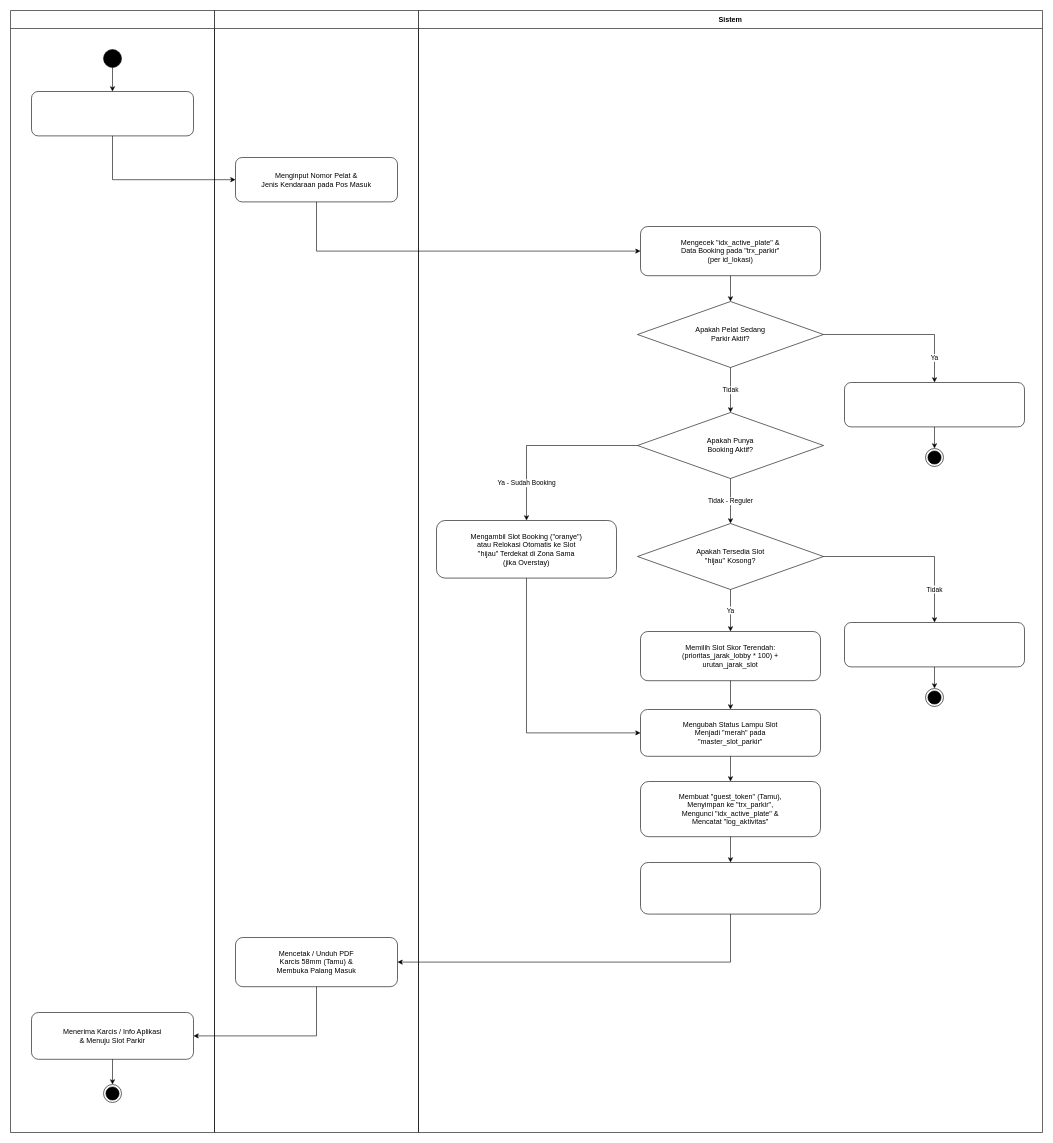
Some shapes in this 1053 by 1143 pixel diagram are drawn without their labels. Here are the shapes that lost their labels. From the top down, the box of each, then its label:
(31, 91, 194, 136): Tiba di Gerbang Masuk & Menyebutkan / Menghadap Pos Petugas
(844, 382, 1024, 427): Menampilkan Pesan "Pelat Sedang Parkir Aktif"
(10, 10, 214, 1132): Pengguna (Member / Guest)
(214, 10, 418, 1132): Petugas
(844, 622, 1024, 667): Menampilkan Pesan "Parkir Penuh"
(640, 862, 820, 914): Menyiapkan Karcis 58mm ber-QR (Tamu) / Info Slot Real-Time Aplikasi (Member)
